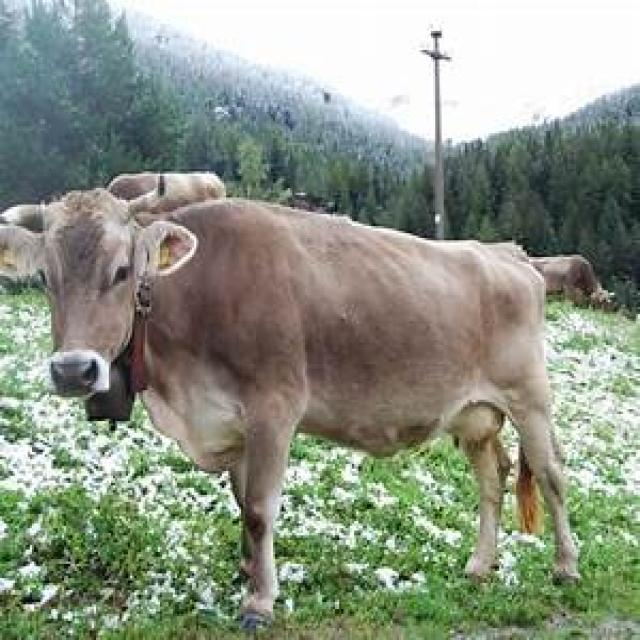cow: (0, 176, 582, 633)
